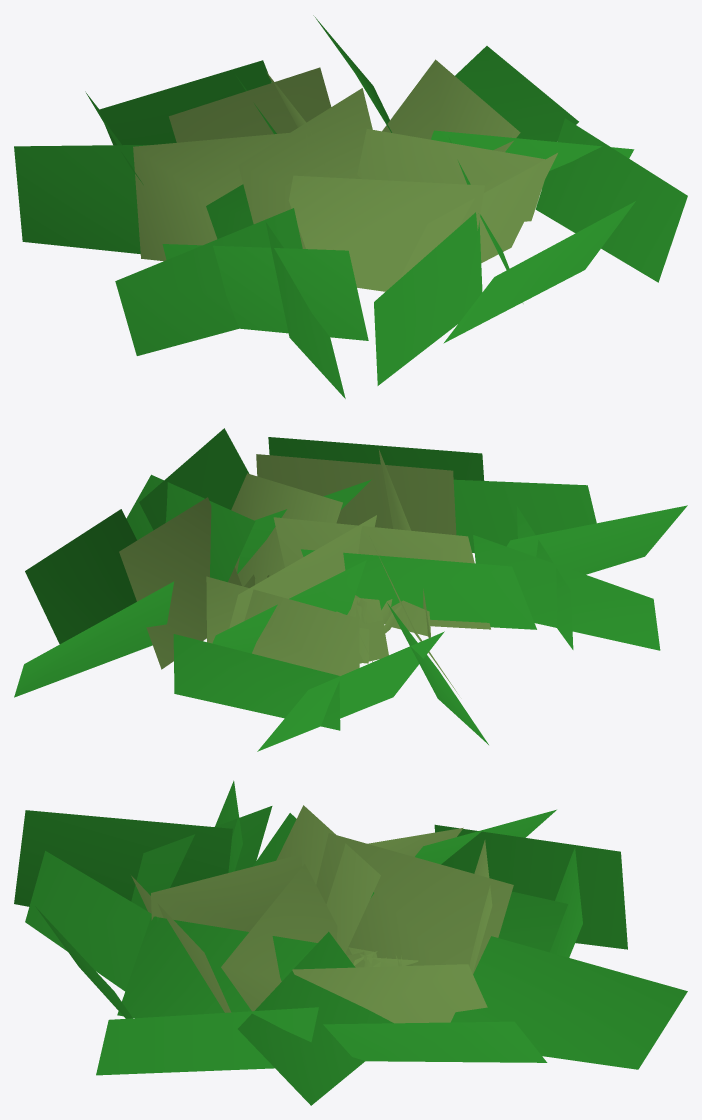
Rendered from grass2.obj.
3 views of the same model, one above another, from view 1: azimuth 30°, elevation 25°; view 2: azimuth 150°, elevation 25°; view 3: azimuth 270°, elevation 25° (orthographic). The views are drawn at different scales.
Parts seen in each view (by area): view 1: IL3DN_Plant_Grass_02_LOD1_Mesh.020; view 2: IL3DN_Plant_Grass_02_LOD1_Mesh.020, IL3DN_Plant_Grass_02_LOD0_Mesh.019; view 3: IL3DN_Plant_Grass_02_LOD1_Mesh.020, IL3DN_Plant_Grass_02_LOD0_Mesh.019.
Part boxes in pixels (<box>): IL3DN_Plant_Grass_02_LOD1_Mesh.020: <box>14,15,687,398</box>; IL3DN_Plant_Grass_02_LOD1_Mesh.020: <box>14,428,687,751</box>; IL3DN_Plant_Grass_02_LOD0_Mesh.019: <box>244,574,430,663</box>; IL3DN_Plant_Grass_02_LOD1_Mesh.020: <box>14,780,687,1105</box>; IL3DN_Plant_Grass_02_LOD0_Mesh.019: <box>347,947,418,967</box>.
Size of the model in its own units: 8.78 by 2.09 by 9.63.
